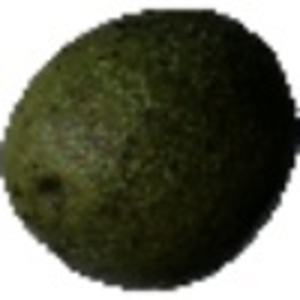abacate: (4, 2, 297, 297)
